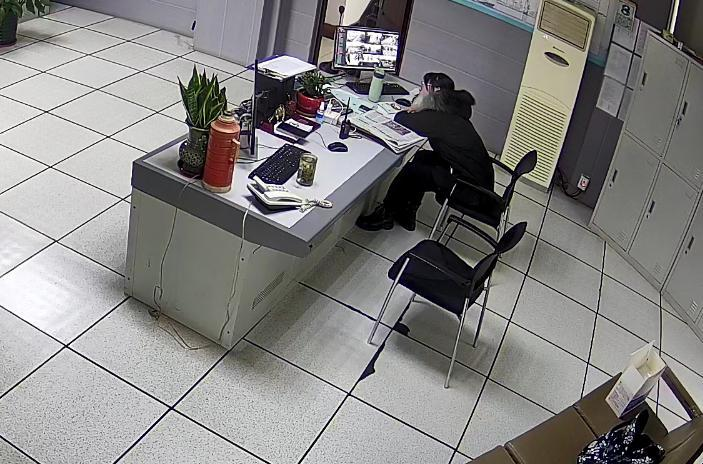sleep: (380, 65, 486, 149)
